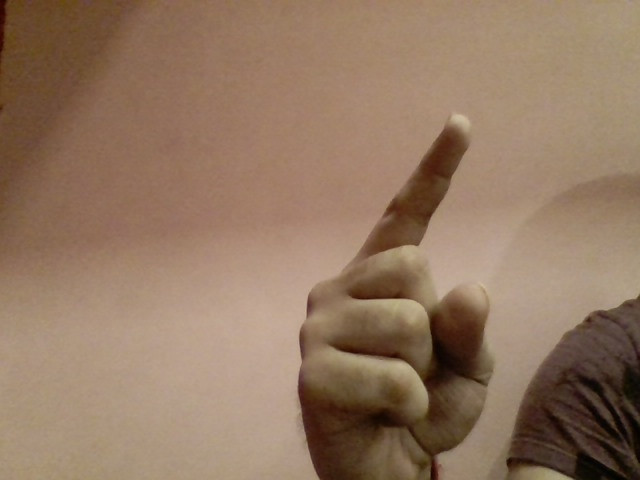z: (281, 91, 511, 474)
